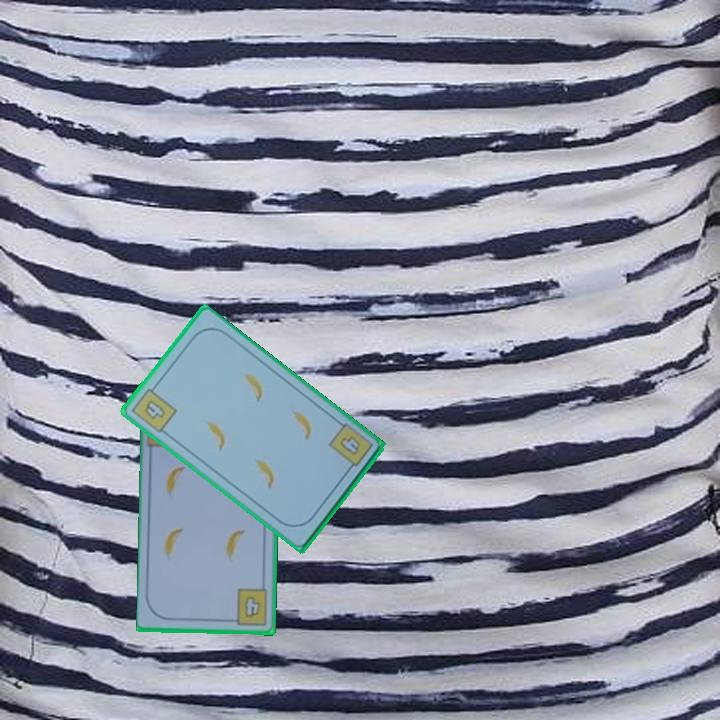4b: (127, 380, 180, 436), (227, 585, 271, 628), (336, 432, 363, 458)
